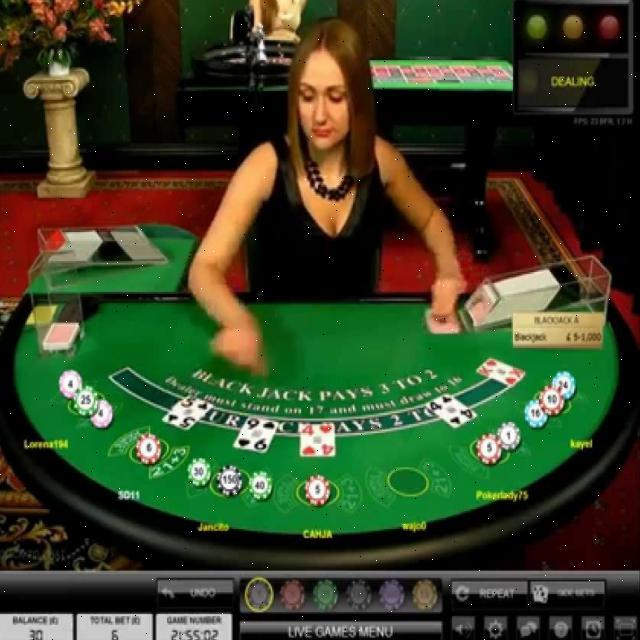Card-4: (425, 392, 478, 429), (300, 423, 335, 456)
Card-5: (161, 392, 214, 430)
Card-9: (233, 414, 280, 454)
Card-K: (476, 355, 525, 388)
